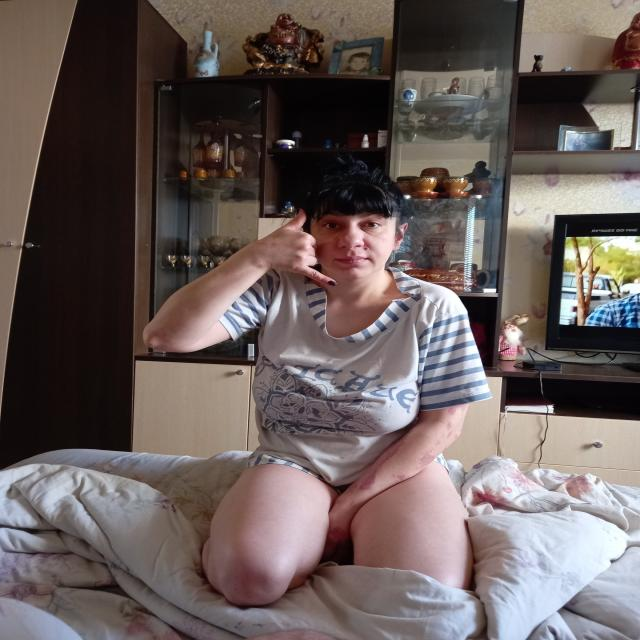call: (256, 206, 340, 289)
